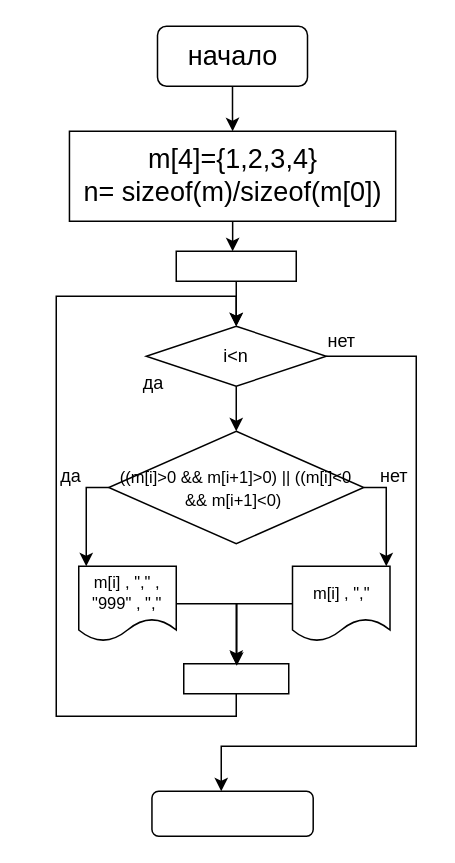
This 455x863 diagram has some shape labels left out. Each missing label, with the centre of its shape:
i=0: (235,265)
i=i+1: (235,678)
конец: (231,813)
